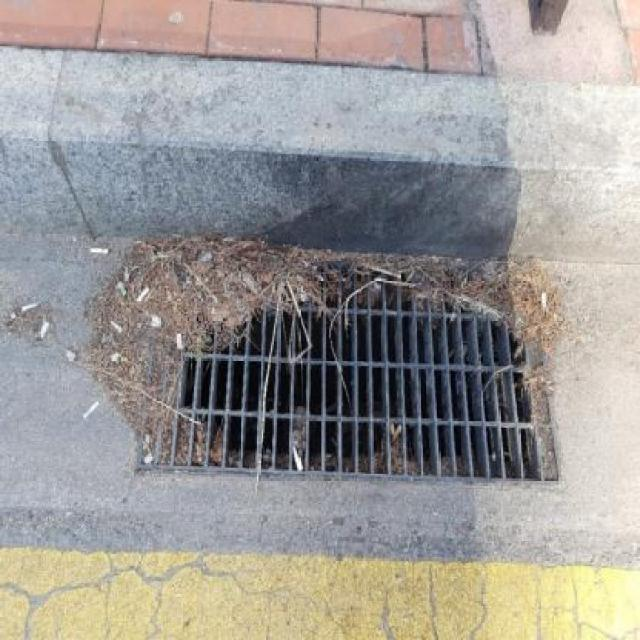Drain Hole: (120, 242, 620, 513)
